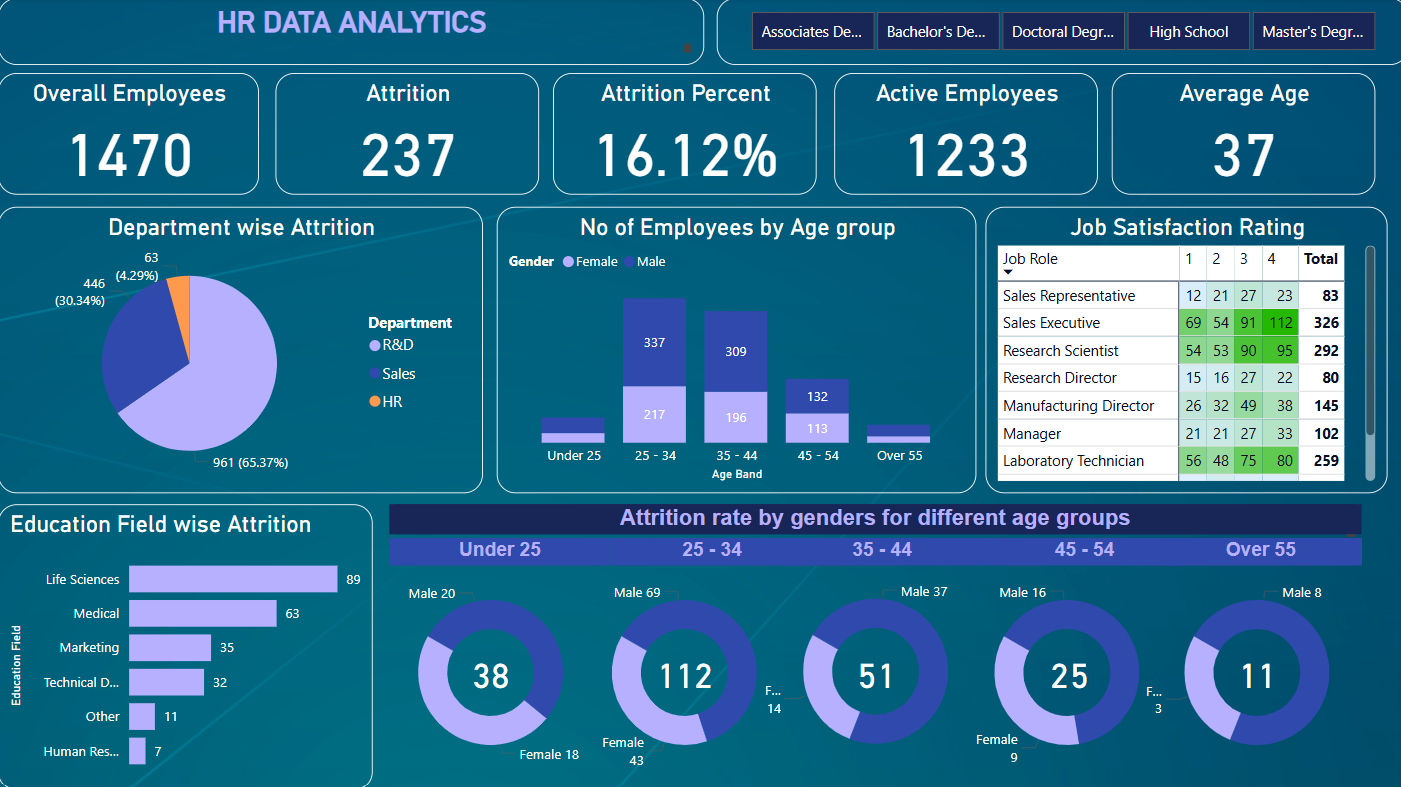

This screenshot's page, from the dashboard's own definition file:
{"tool":"powerbi","page":{"name":"Page 1","canvas":[1280,720],"ordinal":0},"visuals":[{"type":"card","title":"Overall Employees","fields":{"Values":["Sum(HR data.Employee Count)"]},"box":[0,68.1,237.1,110],"z":0},{"type":"card","title":"Attrition","fields":{"Values":["Sum(HR data.Attritiion Count)"]},"box":[251.8,68.1,239.3,110],"z":1000},{"type":"card","title":"Attrition Percent ","fields":{"Values":["HR data.Attrition percent"]},"box":[503.6,68.1,239.3,110],"z":2000},{"type":"card","title":"Active Employees","fields":{"Values":["HR data.Active Employees"]},"box":[758.8,68.1,239.3,110],"z":3000},{"type":"card","title":"Average Age ","fields":{"Values":["Avg(HR data.Age)"]},"box":[1010.6,68.1,239.3,110],"z":4000},{"type":"pieChart","title":"Department wise Attrition","fields":{"Y":["CountNonNull(HR data.Attritiion Count)"],"Category":["HR data.Department"]},"box":[0,189,440,259.7],"z":5000},{"type":"clusteredBarChart","title":"Education Field wise Attrition","fields":{"Category":["HR data.Education Field"],"Y":["Sum(HR data.Attritiion Count)"]},"box":[0,459,340,260],"z":6000},{"type":"textbox","title":"HR DATA ANALYTICS","box":[0,0,640.6,60.6],"z":7000},{"type":"slicer","fields":{"Values":["HR data.Education"]},"box":[652.1,0,627.6,60.6],"z":8000},{"type":"pivotTable","title":"Job Satisfaction Rating","fields":{"Rows":["HR data.Job Role"],"Columns":["HR data.Job Satisfaction"],"Values":["Sum(HR data.Employee Count)"]},"box":[896,189,365,259.7],"z":9000},{"type":"columnChart","title":"No of Employees by Age group","fields":{"Category":["HR data.CF_age band"],"Y":["Sum(HR data.Employee Count)"],"Series":["HR data.Gender"]},"box":[452.6,189.4,435.5,259.7],"z":10000},{"type":"donutChart","fields":{"Category":["HR data.Gender"],"Y":["Sum(HR data.Attritiion Count)"]},"box":[339.7,504.7,216.1,215],"z":11000},{"type":"card","fields":{"Values":["Sum(HR data.Attritiion Count)"]},"box":[409.7,578.4,76,68.9],"z":16000},{"type":"donutChart","fields":{"Category":["HR data.Gender"],"Y":["Sum(HR data.Attritiion Count)"]},"box":[515.4,504.7,216.1,215],"z":16001},{"type":"card","fields":{"Values":["Sum(HR data.Attritiion Count)"]},"box":[585.5,578.4,76,68.9],"z":16002},{"type":"donutChart","fields":{"Category":["HR data.Gender"],"Y":["Sum(HR data.Attritiion Count)"]},"box":[688.8,503.5,216.1,215],"z":16003},{"type":"card","fields":{"Values":["Sum(HR data.Attritiion Count)"]},"box":[758.9,578.4,76,68.9],"z":16004},{"type":"donutChart","fields":{"Category":["HR data.Gender"],"Y":["Sum(HR data.Attritiion Count)"]},"box":[862.2,504.7,216.1,215],"z":16005},{"type":"card","fields":{"Values":["Sum(HR data.Attritiion Count)"]},"box":[934.6,578.4,76,68.9],"z":16006},{"type":"donutChart","fields":{"Category":["HR data.Gender"],"Y":["Sum(HR data.Attritiion Count)"]},"box":[1034.4,504.7,216.1,215],"z":16007},{"type":"card","fields":{"Values":["Sum(HR data.Attritiion Count)"]},"box":[1104.5,578.4,76,68.9],"z":16008},{"type":"textbox","title":"Attrition rate by genders for different age groups","box":[355.4,458.8,882,34.5],"z":16009},{"type":"textbox","title":"Under 25","box":[355.4,489.7,200.9,27.3],"z":16010},{"type":"textbox","title":"25 - 34","box":[556.3,489.7,184.3,27.3],"z":16012},{"type":"textbox","title":"35 - 44","box":[709.7,489.7,184.3,27.3],"z":16013},{"type":"textbox","title":"45 - 54 ","box":[893.9,489.7,184.3,27.3],"z":16014},{"type":"textbox","title":"Over 55","box":[1053.2,489.7,184.3,27.3],"z":16015}]}

Visuals, with their boxes in screenshot pixels (x1, y1, x2, y2), scaled from the page's 1280x720 canvas onto the 1401x787 screenshot:
"Overall Employees" card: locate(0, 74, 260, 195)
"Attrition" card: locate(276, 74, 538, 195)
"Attrition Percent " card: locate(551, 74, 813, 195)
"Active Employees" card: locate(831, 74, 1092, 195)
"Average Age " card: locate(1106, 74, 1368, 195)
"Department wise Attrition" pieChart: locate(0, 207, 482, 490)
"Education Field wise Attrition" clusteredBarChart: locate(0, 502, 372, 786)
"HR DATA ANALYTICS" textbox: locate(0, 0, 701, 66)
slicer - HR data.Education: locate(714, 0, 1400, 66)
"Job Satisfaction Rating" pivotTable: locate(981, 207, 1380, 490)
"No of Employees by Age group" columnChart: locate(495, 207, 972, 491)
donutChart - HR data.Gender x Sum(HR data.Attritiion Count): locate(372, 552, 608, 786)
card - Sum(HR data.Attritiion Count): locate(448, 632, 532, 708)
donutChart - HR data.Gender x Sum(HR data.Attritiion Count): locate(564, 552, 801, 786)
card - Sum(HR data.Attritiion Count): locate(641, 632, 724, 708)
donutChart - HR data.Gender x Sum(HR data.Attritiion Count): locate(754, 550, 990, 785)
card - Sum(HR data.Attritiion Count): locate(831, 632, 914, 708)
donutChart - HR data.Gender x Sum(HR data.Attritiion Count): locate(944, 552, 1180, 786)
card - Sum(HR data.Attritiion Count): locate(1023, 632, 1106, 708)
donutChart - HR data.Gender x Sum(HR data.Attritiion Count): locate(1132, 552, 1369, 786)
card - Sum(HR data.Attritiion Count): locate(1209, 632, 1292, 708)
"Attrition rate by genders for different age groups" textbox: locate(389, 501, 1354, 539)
"Under 25" textbox: locate(389, 535, 609, 565)
"25 - 34" textbox: locate(609, 535, 811, 565)
"35 - 44" textbox: locate(777, 535, 979, 565)
"45 - 54 " textbox: locate(978, 535, 1180, 565)
"Over 55" textbox: locate(1153, 535, 1354, 565)
